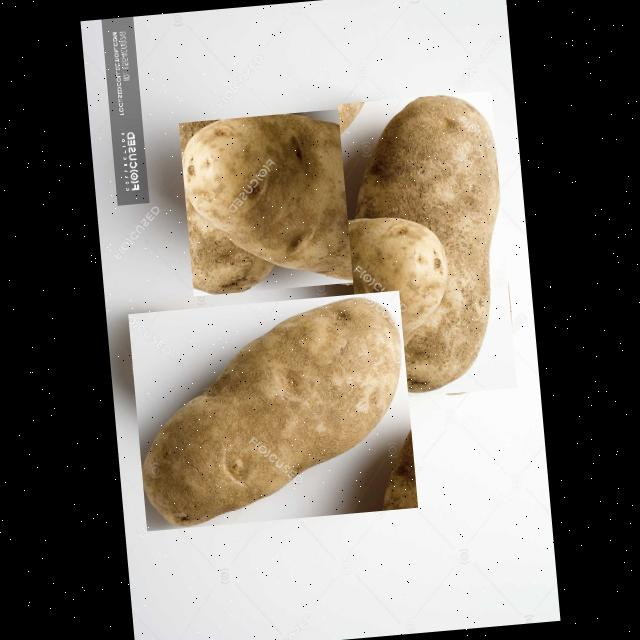Diseased-fungal potato: (128, 289, 418, 530), (338, 90, 516, 400), (178, 100, 446, 294)
